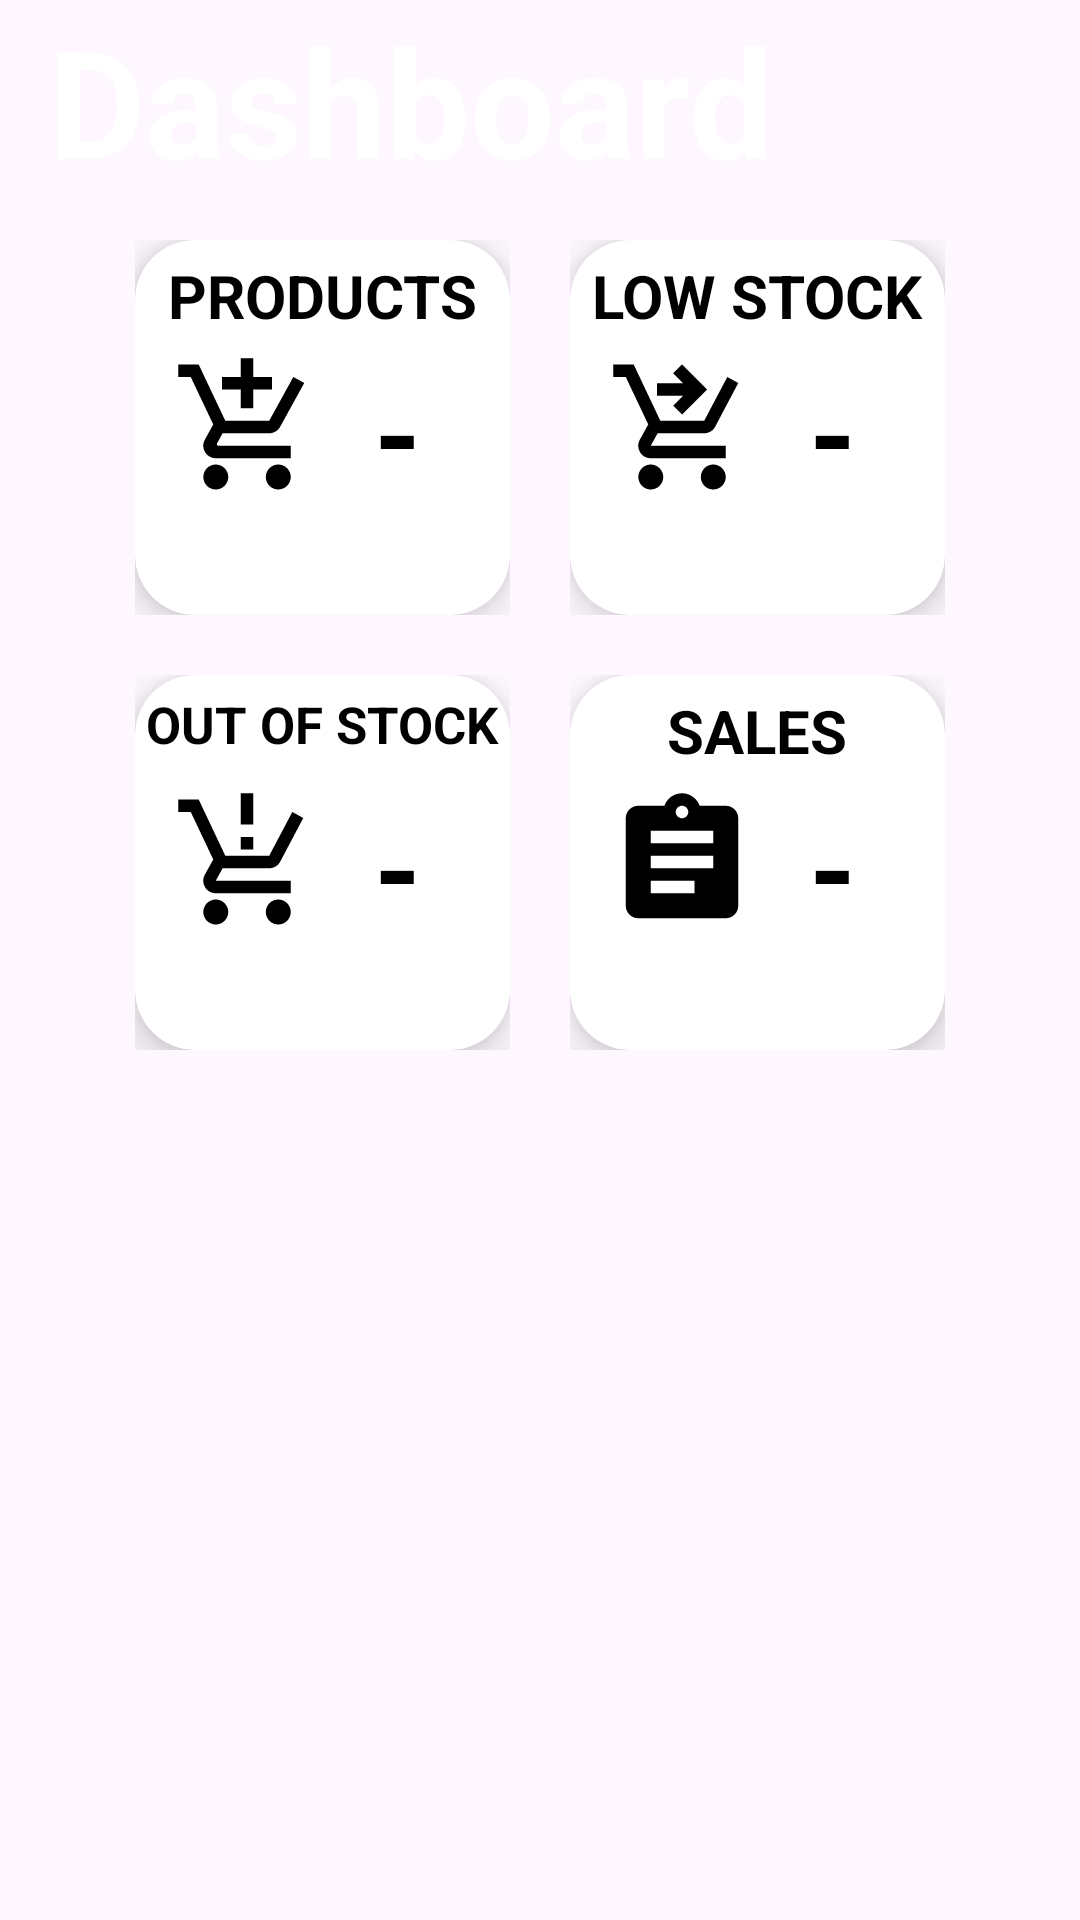

Named icons in this screenshot (1080px x 1920px) and their bounding boxes, (left=x1, top=y1, right=x2, bottom=y2):
outstockcart: (left=178, top=793, right=303, bottom=925)
